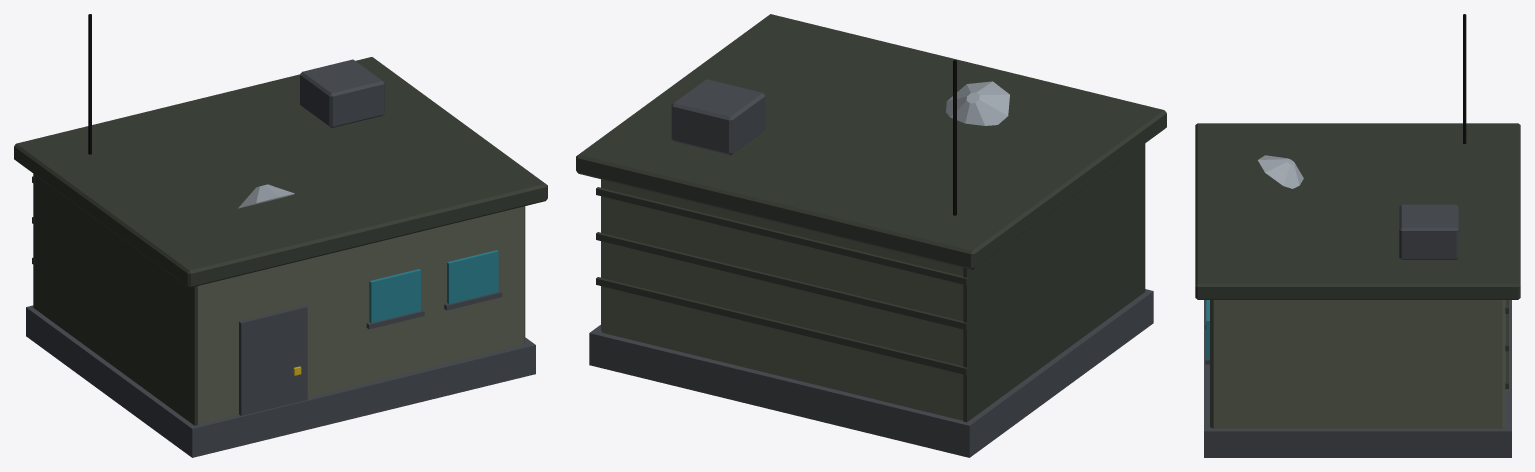
File: env_building.glb
The picture shows the model from 3 angles, left to right: view 1: azimuth 30°, elevation 25°; view 2: azimuth 150°, elevation 25°; view 3: azimuth 270°, elevation 25°; orthographic projection. The views are drawn at different scales.
Visible parts, largest first — view 1: hut; view 2: hut; view 3: hut.
Boxes of the visible parts, x1,y1,x2,y2 form: hut: (14,14,547,457); hut: (576,14,1166,457); hut: (1195,14,1520,457).
Size of the model in its own units: 6.5 by 5.7 by 5.5.
1 material, 1 textured.
